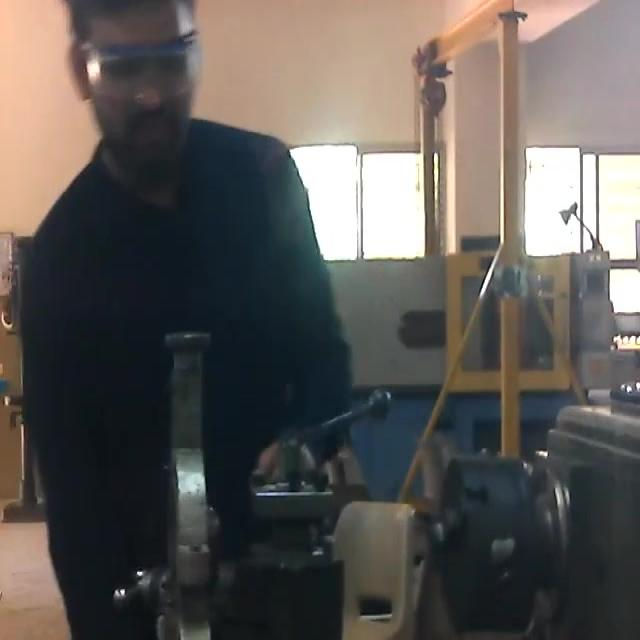googles: (81, 32, 198, 105)
